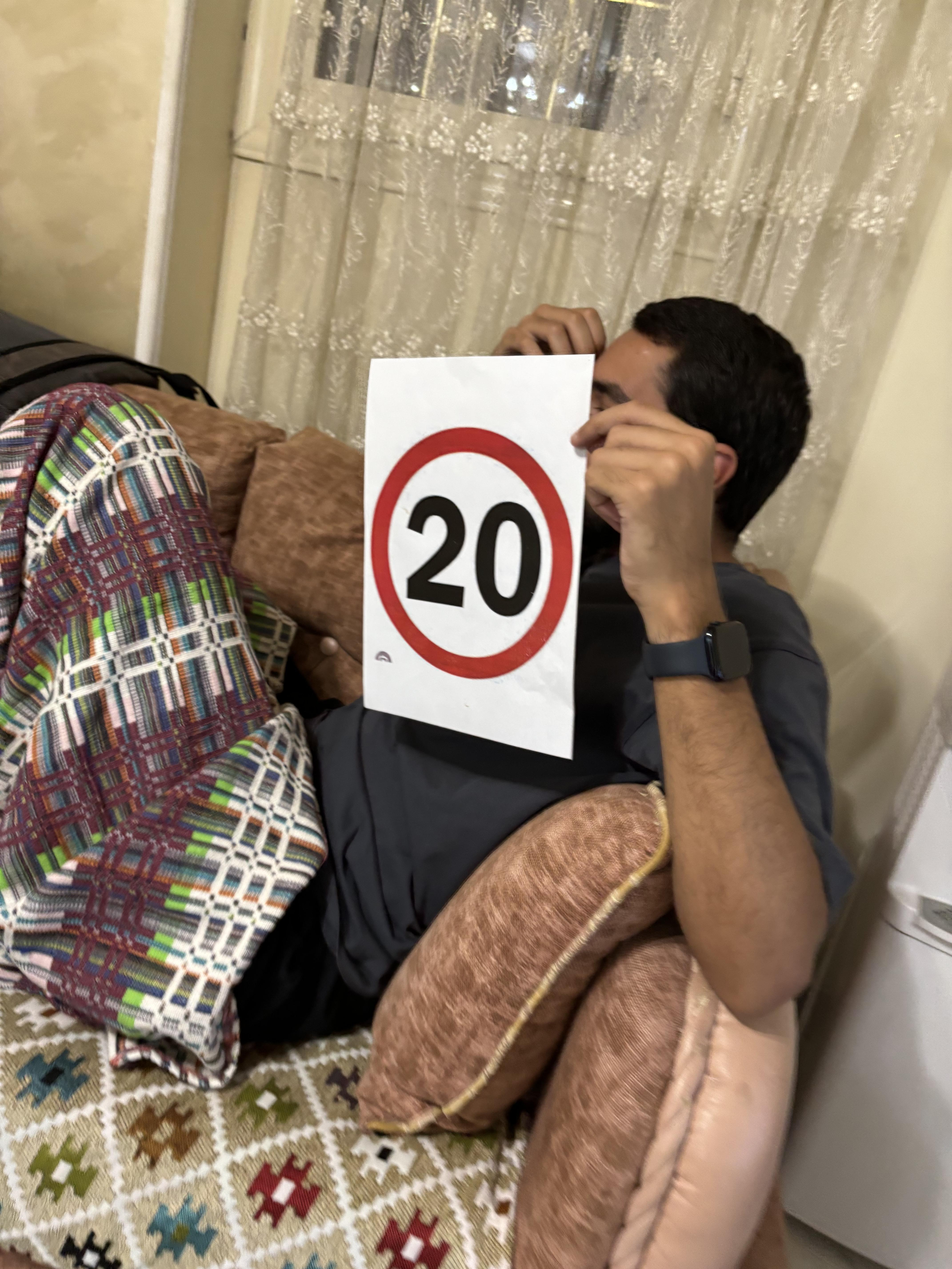20-Speed: (363, 414, 580, 689)
